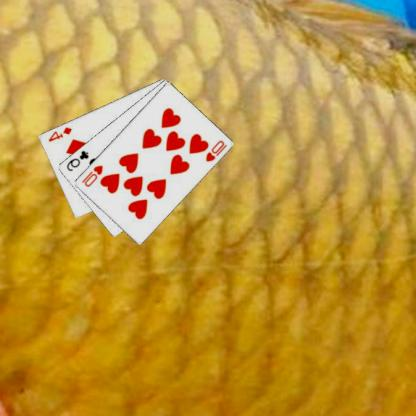10H: (204, 137, 230, 163), (81, 162, 106, 188)
4D: (47, 124, 75, 143)
6C: (65, 148, 92, 172)
